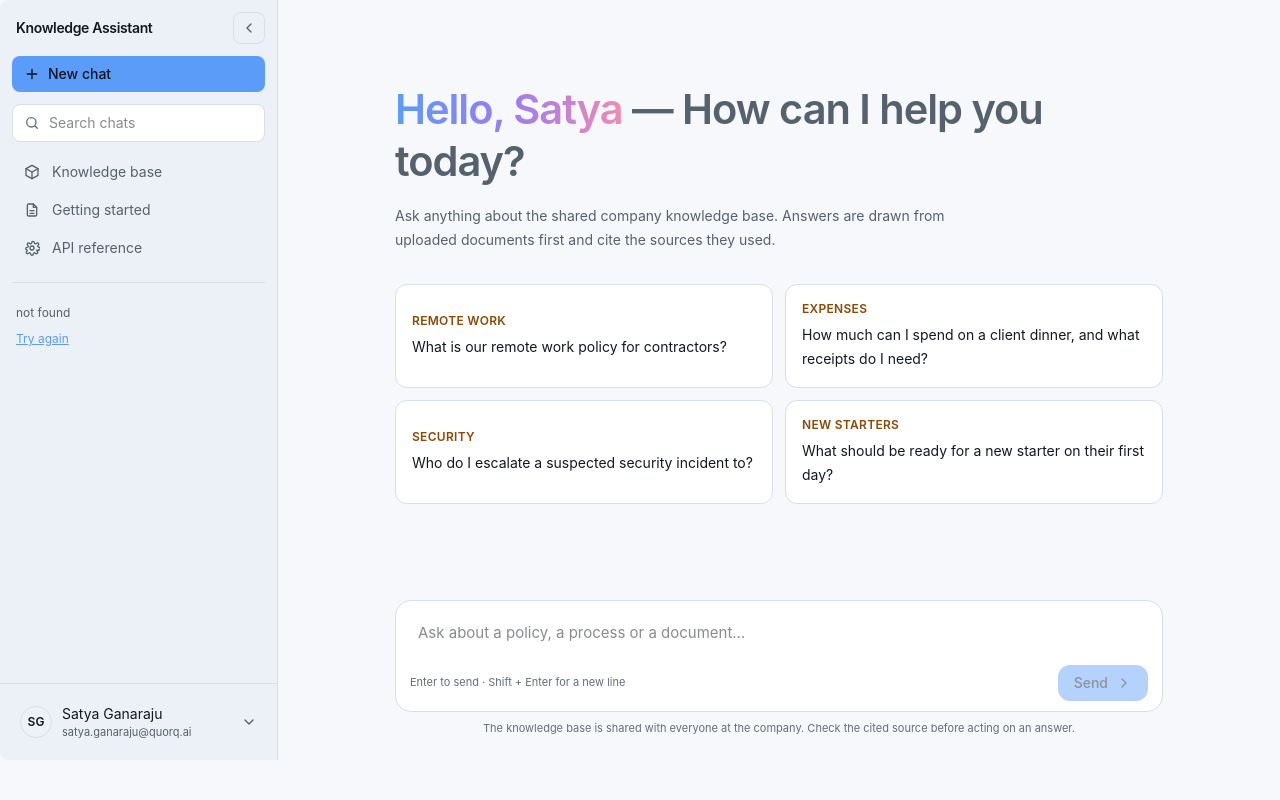
Test: Chat › AC-040: an error event shows a plain-language message with Retry and keeps the partial answer
The image size is (1280, 800).
Check: the text "Hello, Satya" is shown, box [395,84,623,134]
Type "Tell me about expenses" into the text box named "Your question" at (779, 632), box [406,610,1152,654]
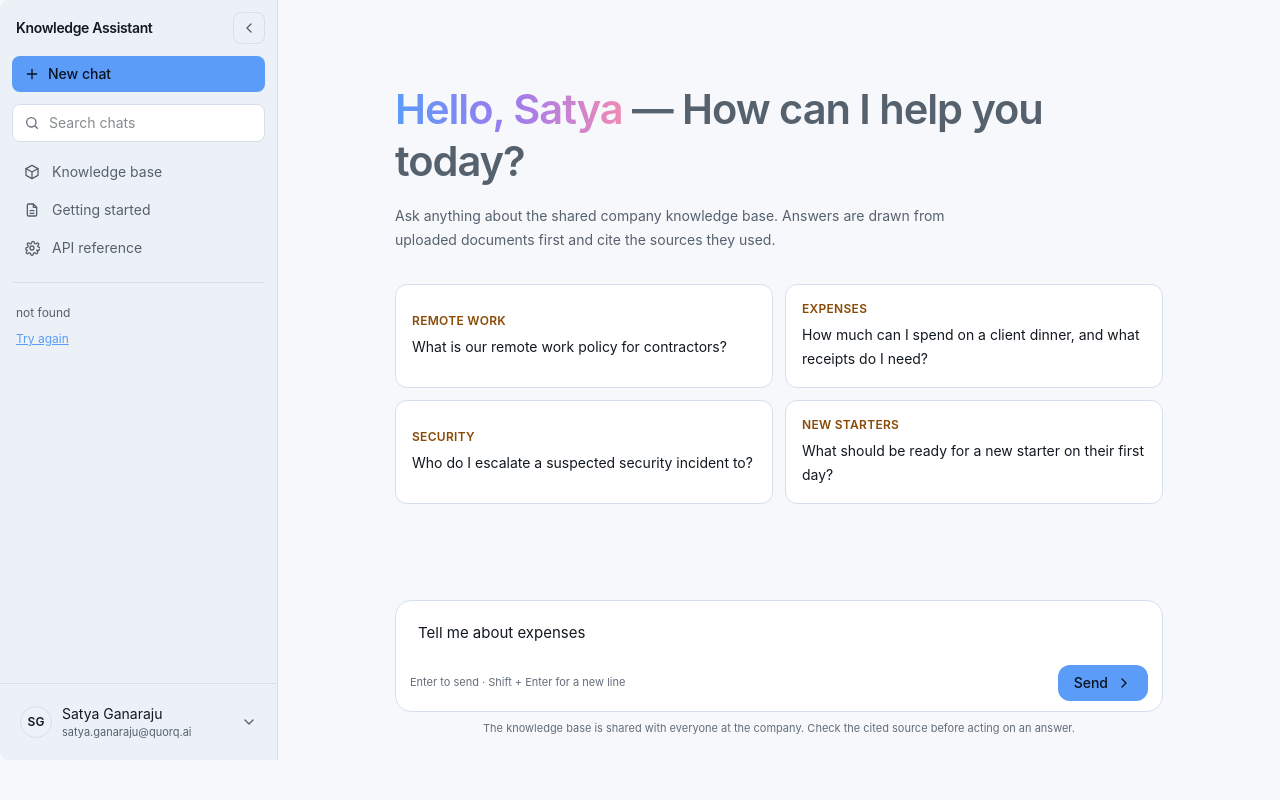
Click the button "Send" at (1103, 682), box [1058,664,1148,700]
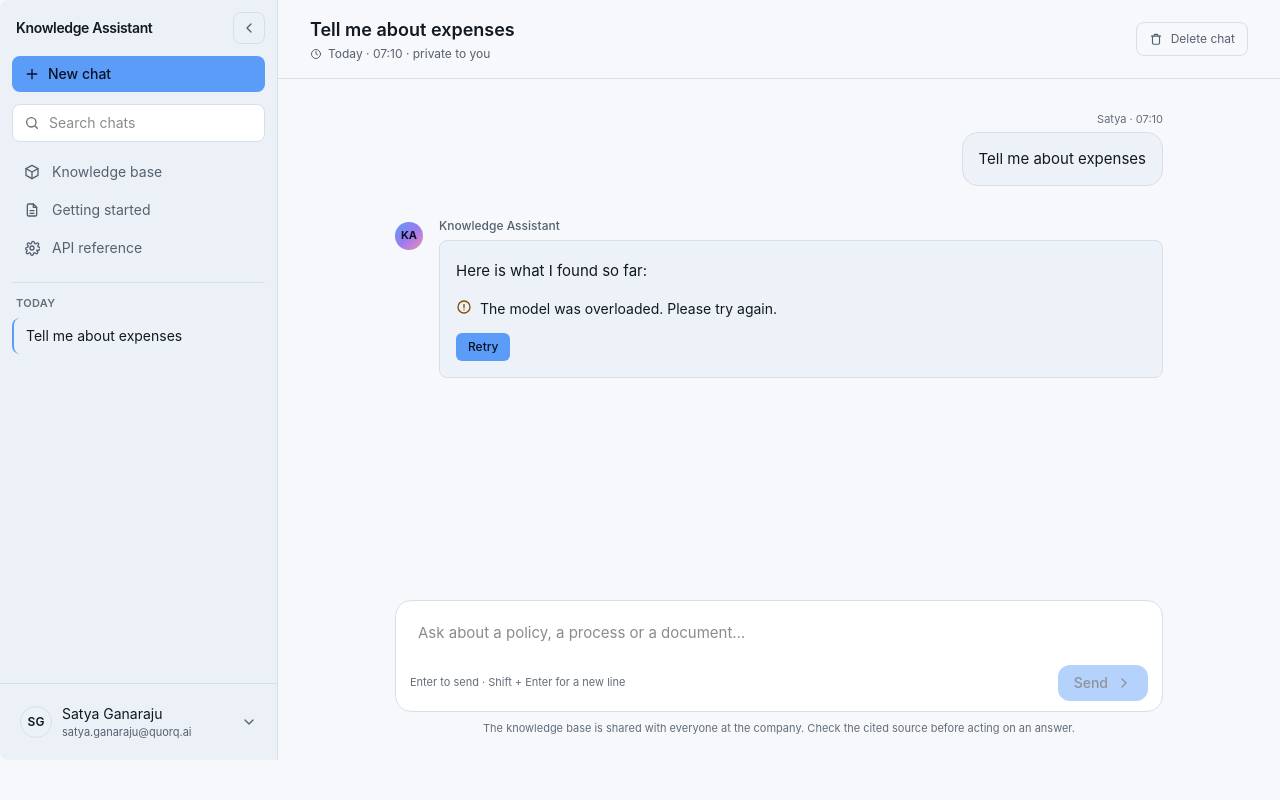
Check: the text "The model was overloaded. Please try again." is shown, box [480,296,777,320]
Check: the text "Here is what I found so far:" is shown, box [456,260,647,280]
Check: the button "Retry" is shown, box [456,332,510,360]
